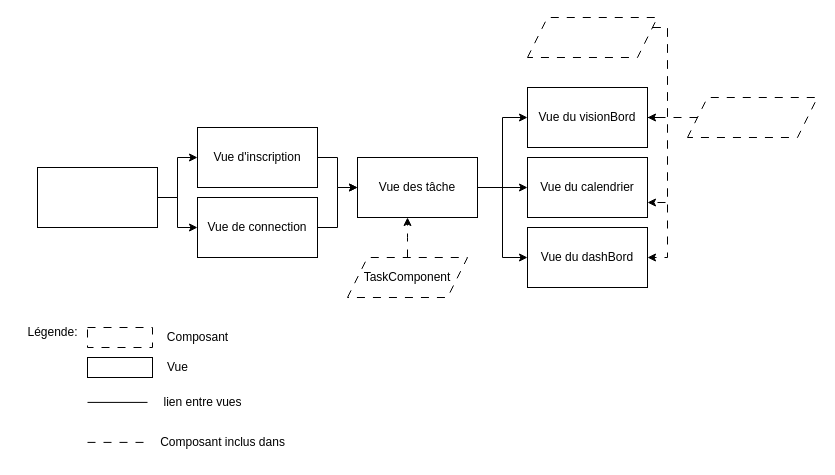
Image size: 835x475. Some labels were removed from this diagram. The shapes that lost their labels are listed below. From the top down, each one's box as (x1, y1, x2, y2) in pixels, then its label:
(526, 16, 658, 58): HeaderComponent
(686, 96, 818, 138): VisionComponent
(36, 166, 158, 228): Vue D'accueil
